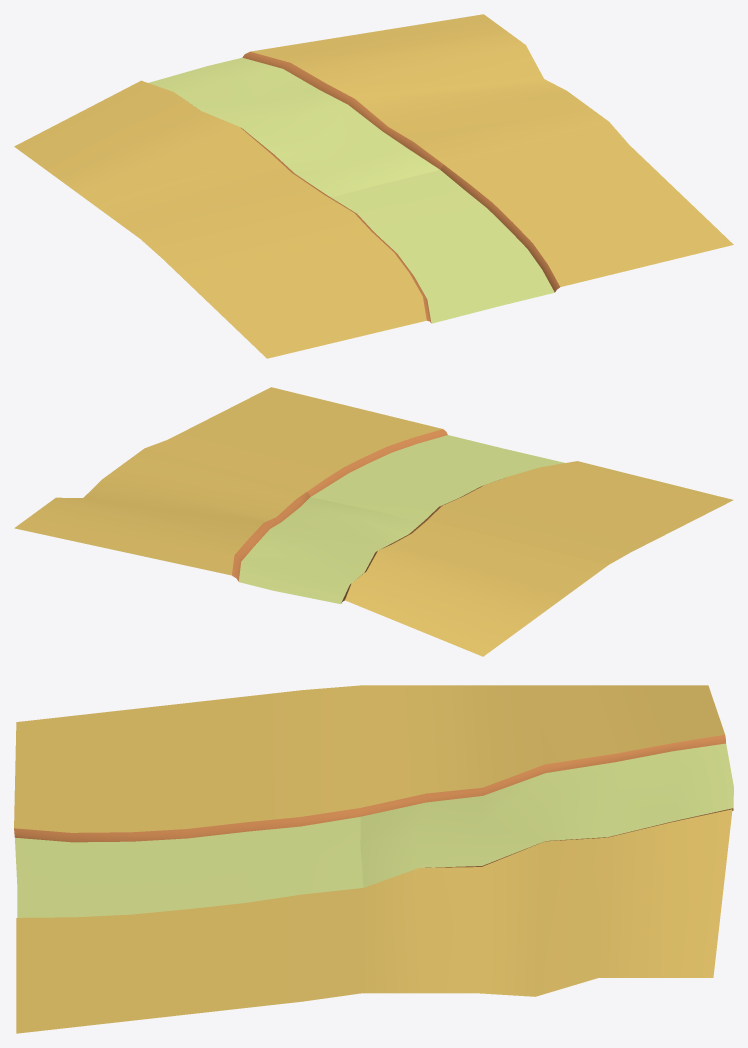
Rendered from Floor2.fbx.
3 renders of one model, top to bottom at view 1: azimuth 30°, elevation 25°; view 2: azimuth 150°, elevation 25°; view 3: azimuth 270°, elevation 25°, orthographic. The views are drawn at different scales.
Visible parts, largest first — view 1: Floor.001, Floor; view 2: Floor.001, Floor; view 3: Floor.001, Floor.
Boxes of the visible parts, box(x1,y1,x2,y2) form: Floor.001: box(14, 14, 608, 238); Floor: box(141, 122, 733, 358); Floor.001: box(14, 448, 608, 656); Floor: box(145, 387, 733, 564); Floor.001: box(360, 685, 733, 996); Floor: box(14, 685, 363, 1033).
Bounding box in the file's own units: 2583 × 317 × 2498.
